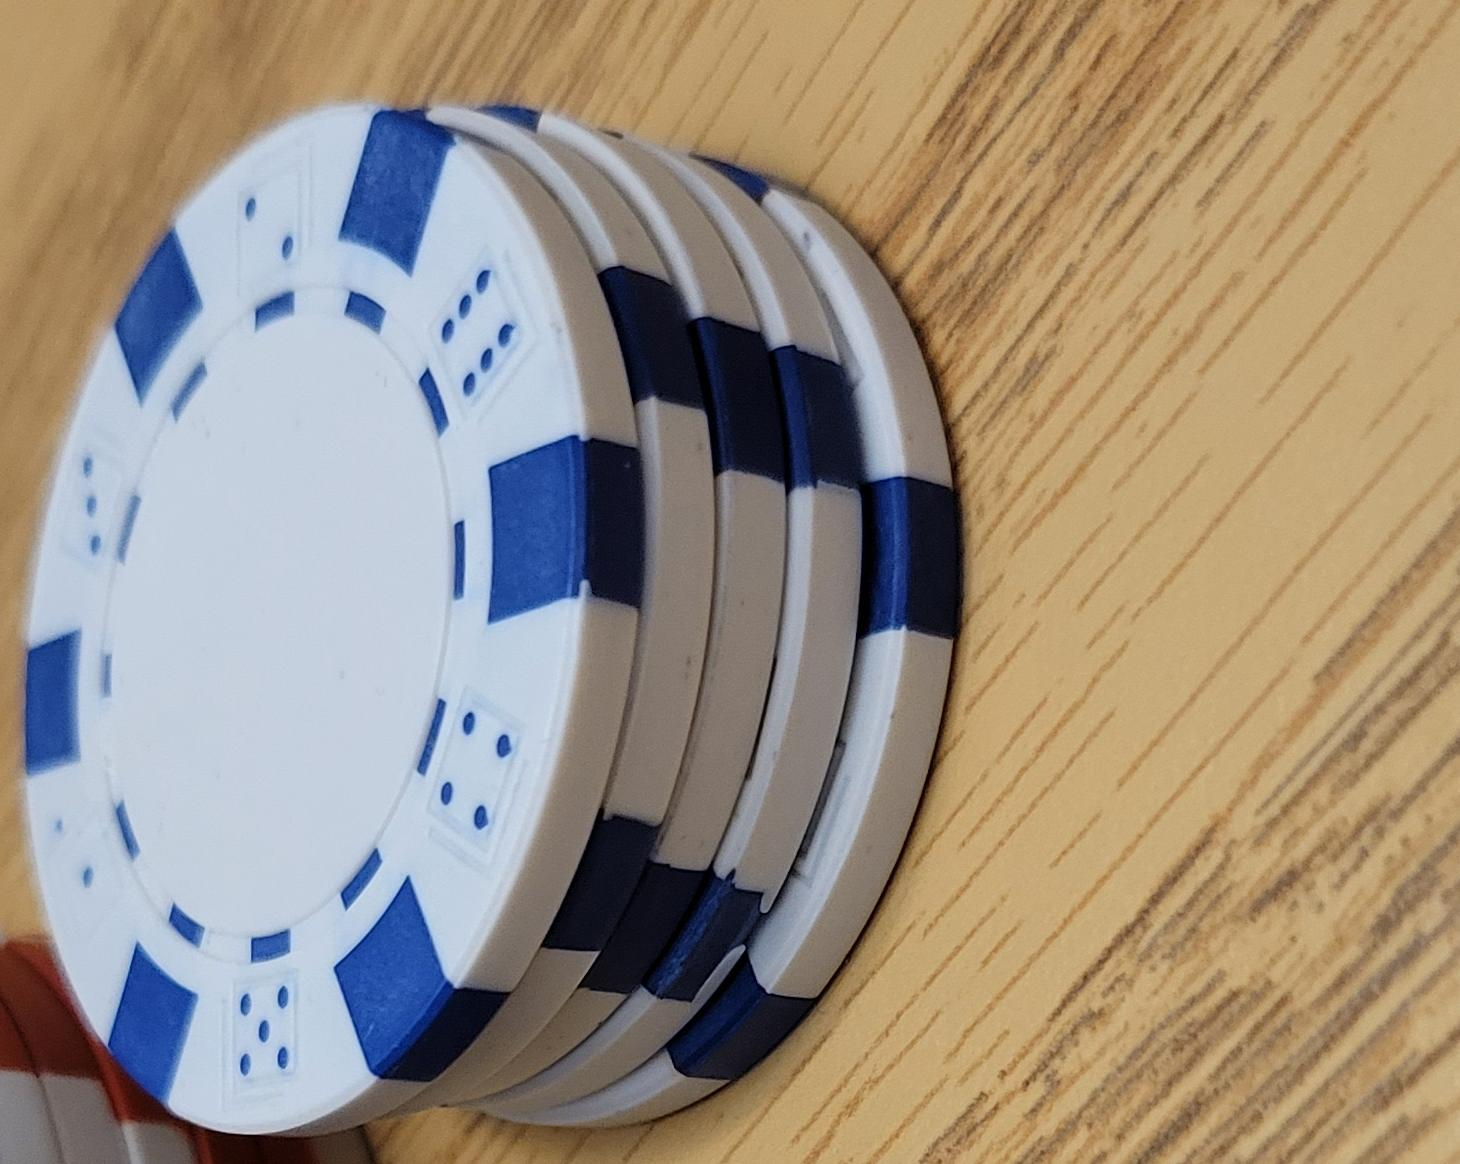Chip: (1, 52, 767, 1164)
